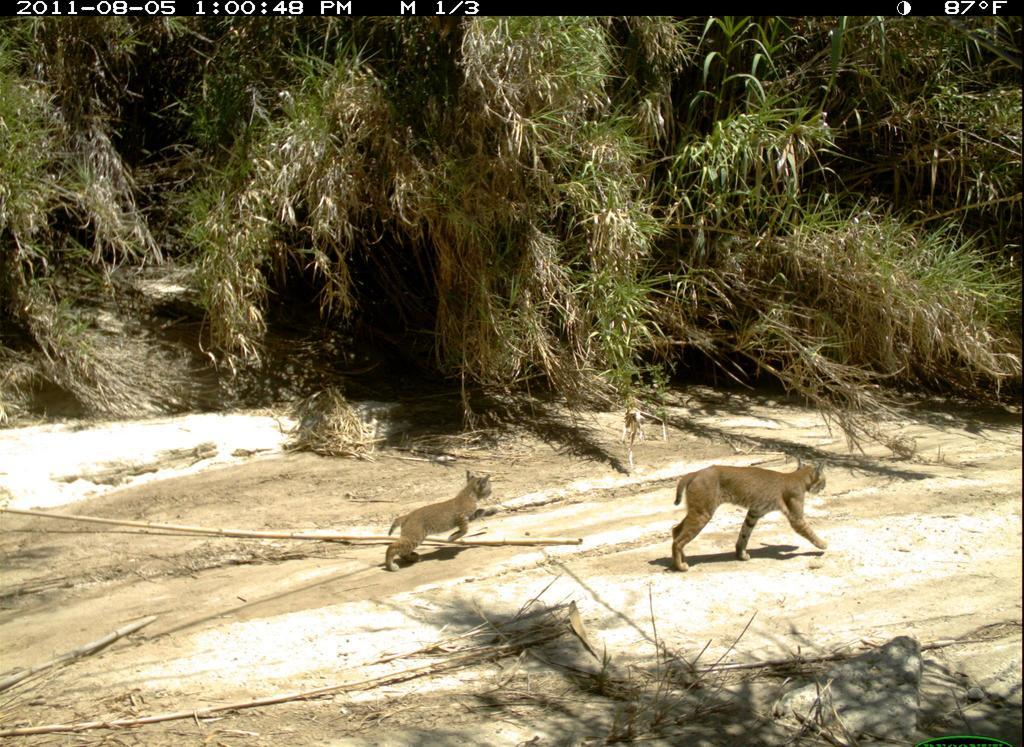bobcat: (669, 457, 835, 573), (378, 468, 500, 579)
